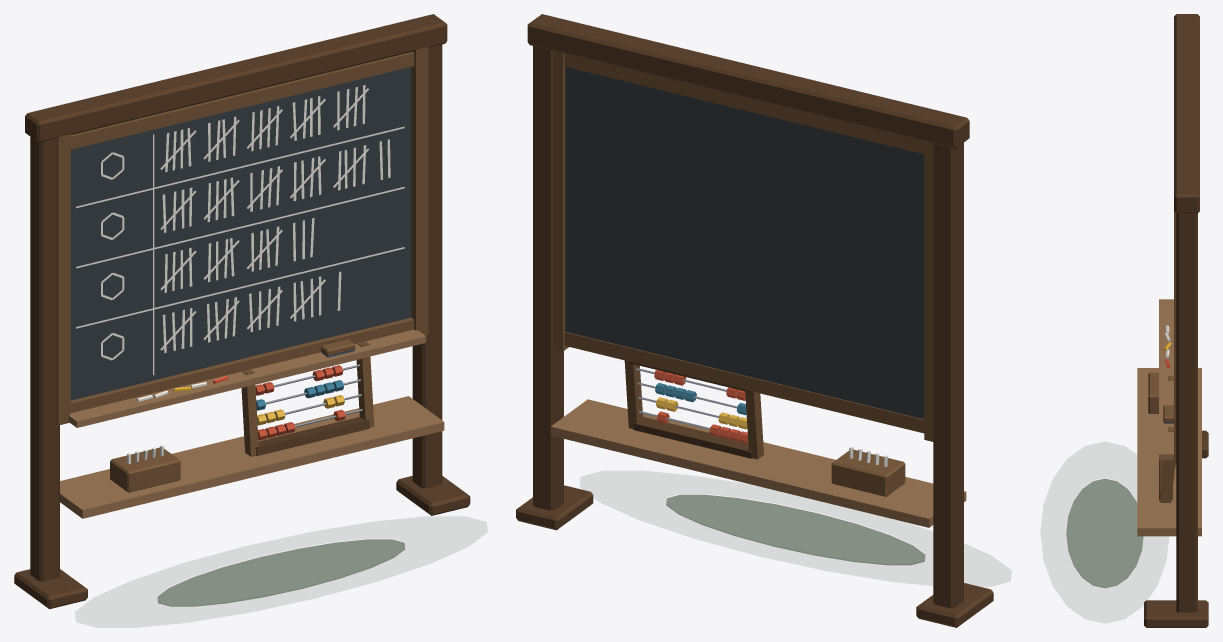
File: tally_board.glb
3 views of the same model, side by side, from view 1: azimuth 30°, elevation 25°; view 2: azimuth 150°, elevation 25°; view 3: azimuth 270°, elevation 25° (orthographic). The views are drawn at different scales.
Visible parts, largest first — view 1: tally_board; view 2: tally_board; view 3: tally_board.
Part boxes in pixels (x1,y1,x2,y2): tally_board: (14,14,470,609); tally_board: (516,14,993,627); tally_board: (1066,14,1208,627).
Bounding box in the file's own units: 2.06 × 2.21 × 0.78.
